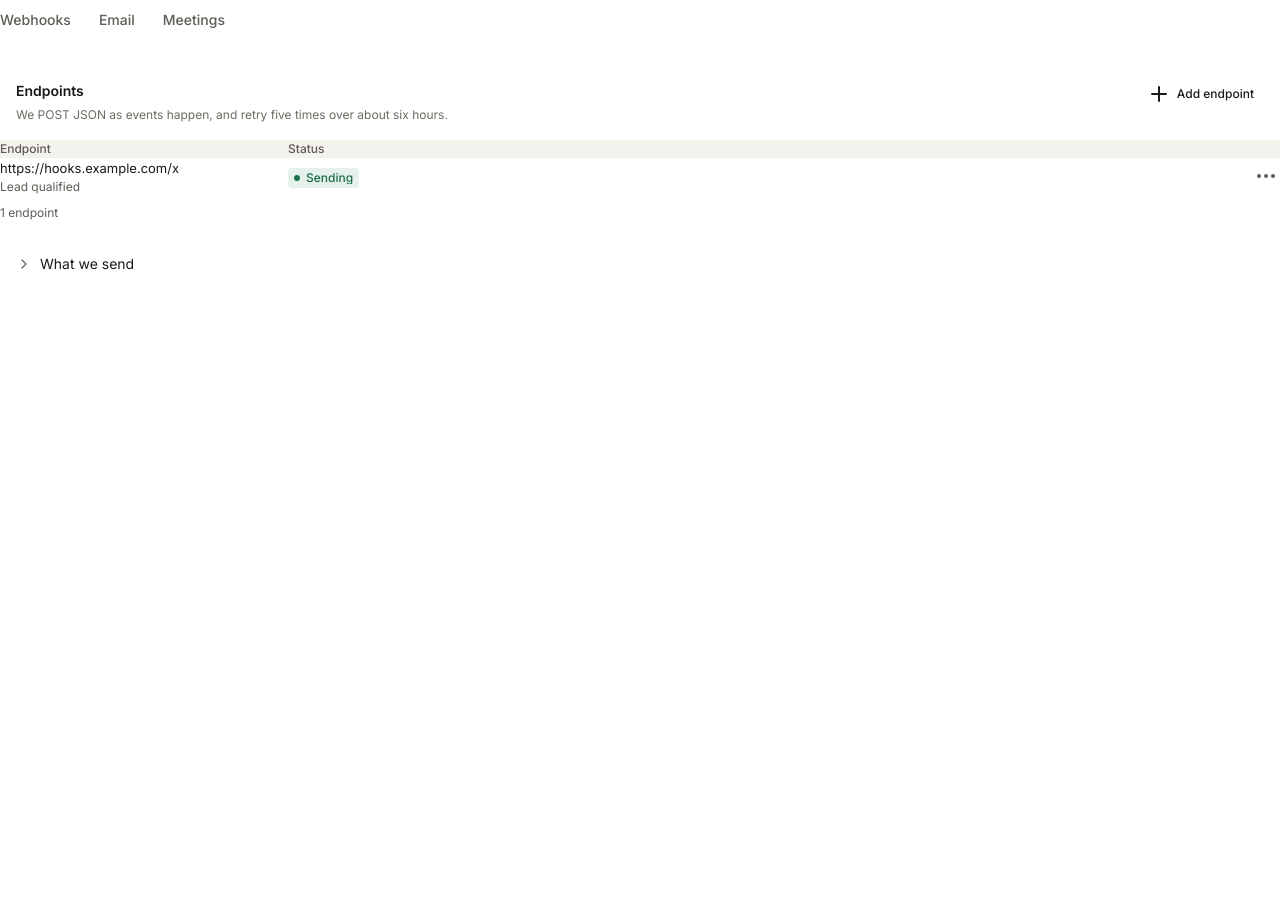
IntegrationsPage — webhooks › reveals the signing secret exactly once, where it can be copied
The image size is (1280, 900).
Expected: the text "https://hooks.example.com/x" is shown, [0,160,179,176]
Click the button "Add endpoint" at [1200, 94], box [1137,80,1264,108]
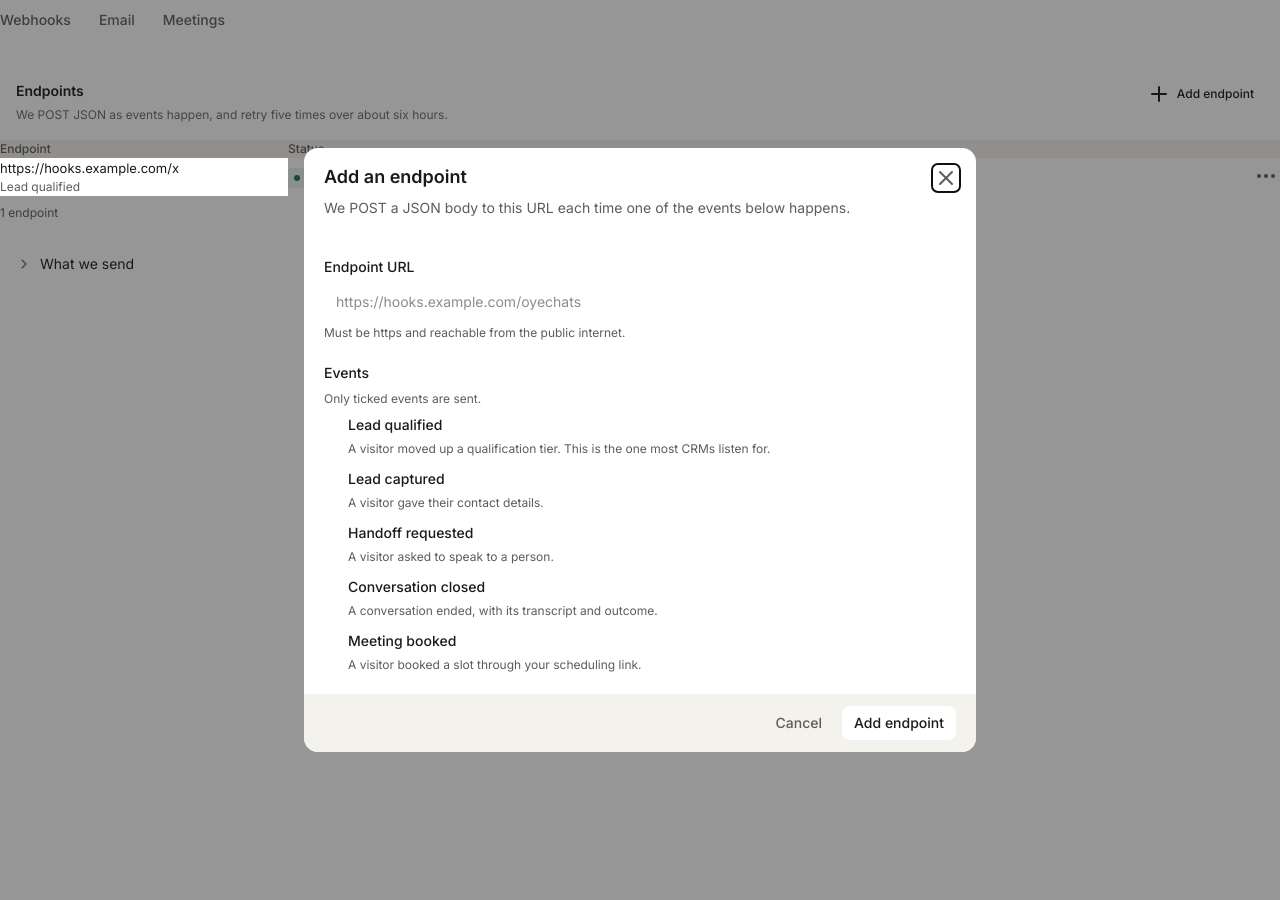
Click the field labelled "Endpoint URL" at [640, 301], box [324,284,956,318]
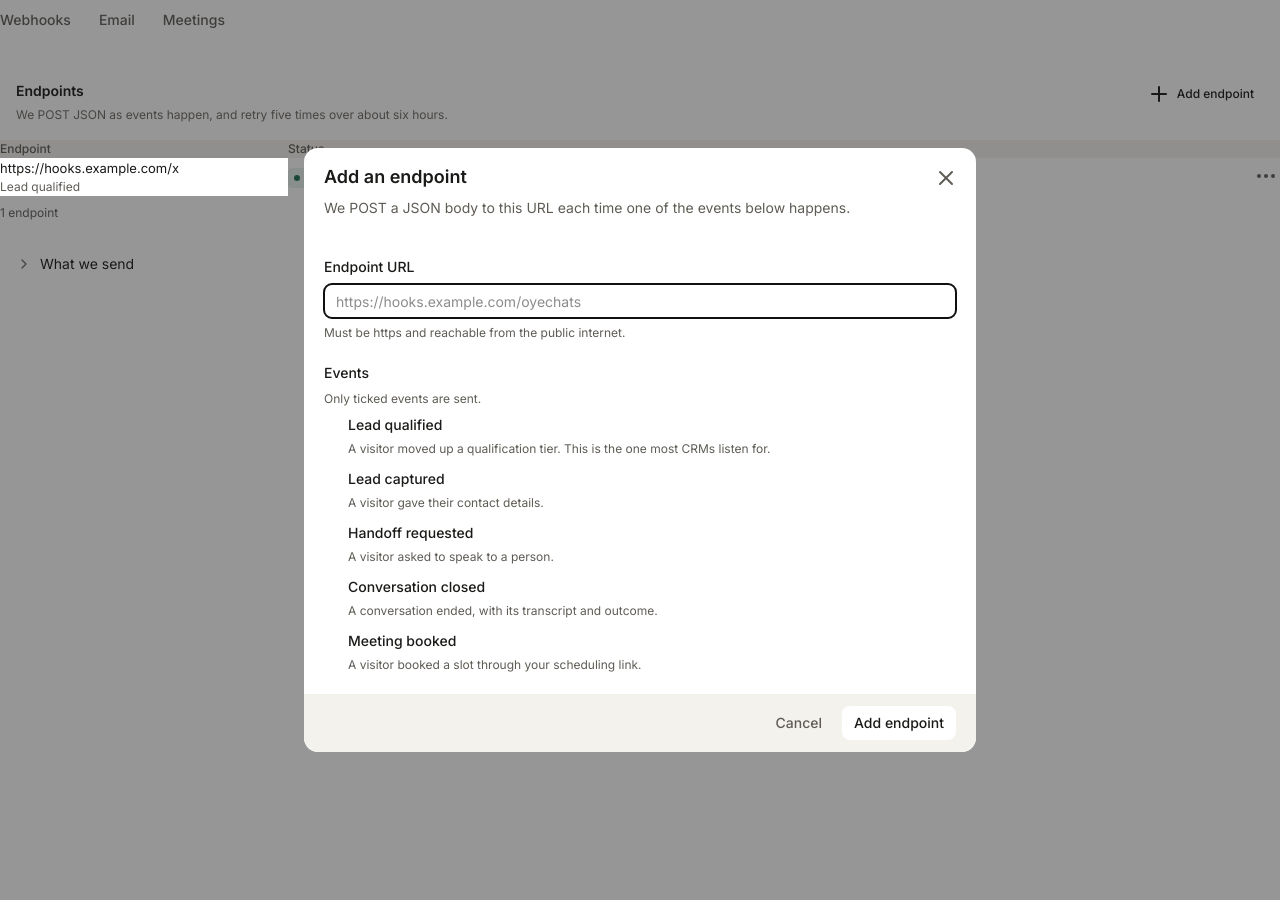
Type keys "https://hooks.example.com/new"
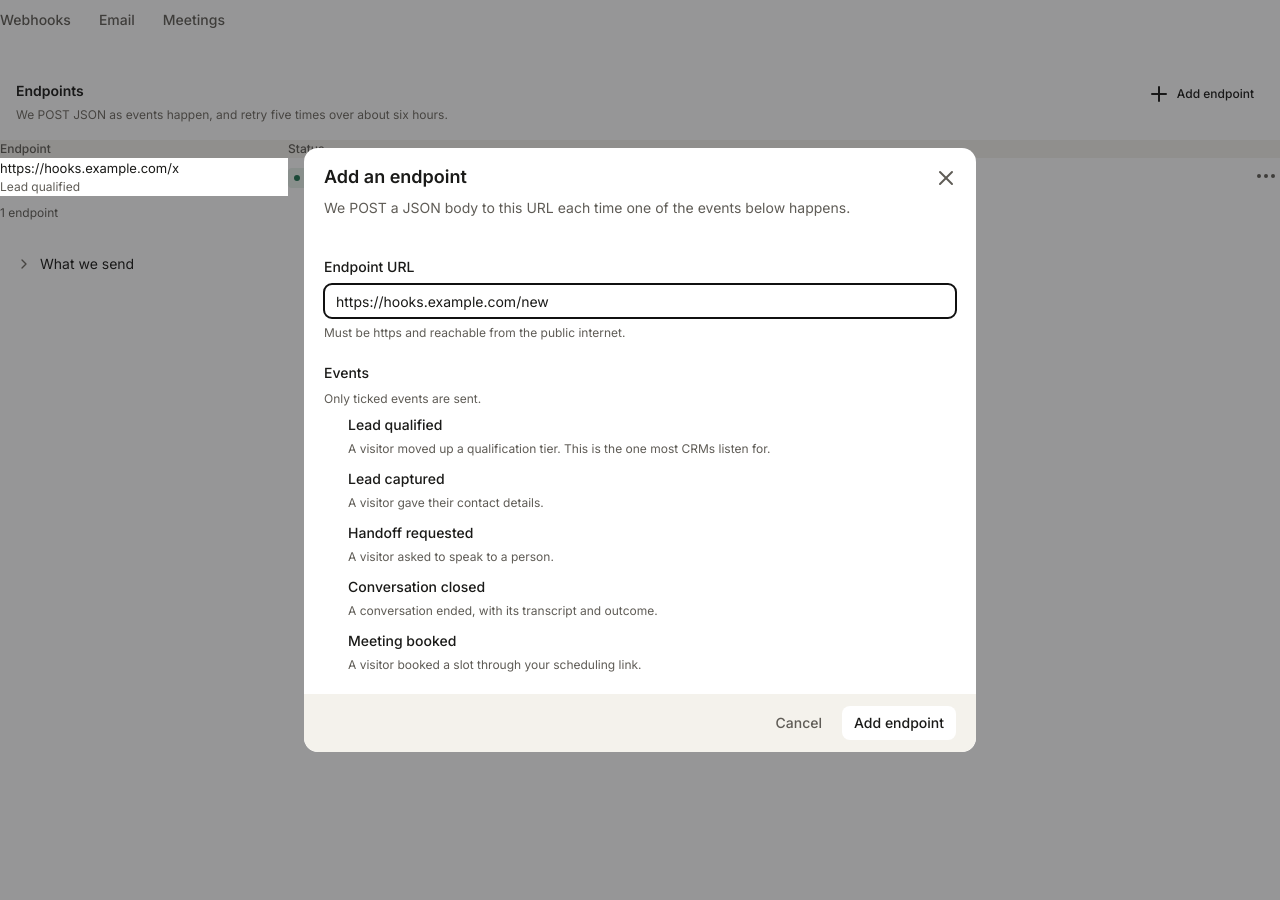
Click the button "Add endpoint" at [899, 723], box [842,706,956,740]
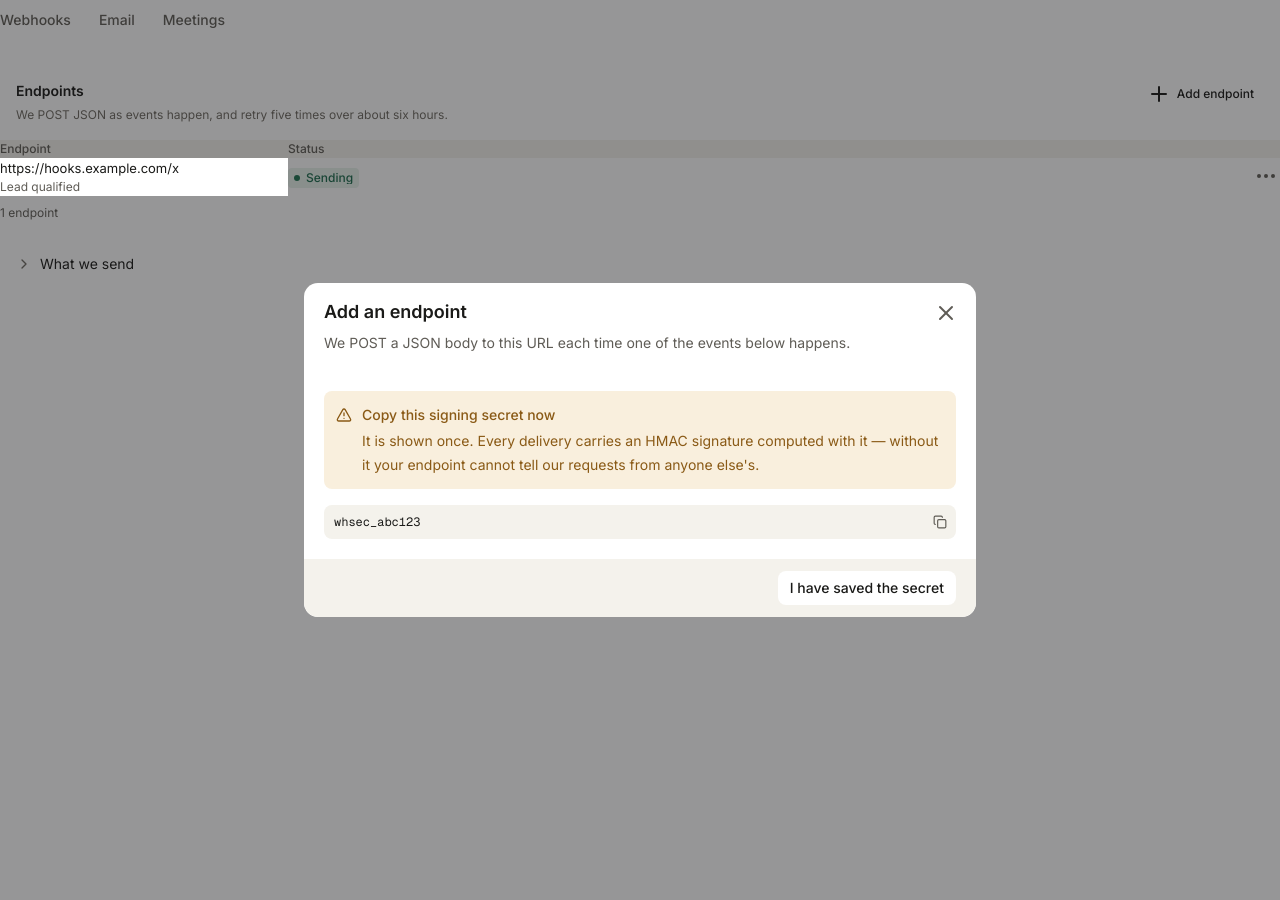
Expected: the text "whsec_abc123" is shown, [334,514,420,530]
Expected: the button named "copy signing secret" is shown, [926,508,954,536]
